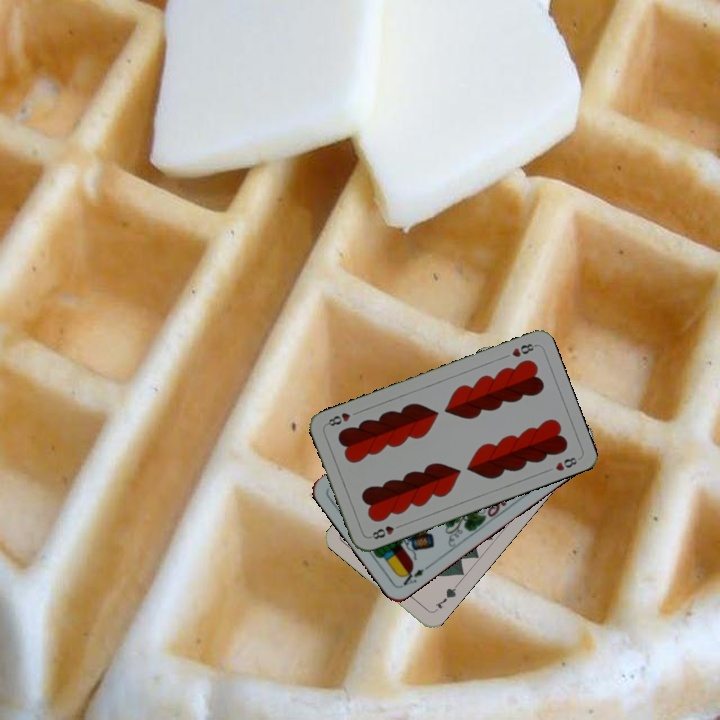EA: (395, 561, 433, 589)
G7: (429, 581, 460, 615)
H8: (366, 520, 405, 542), (508, 339, 538, 360)
